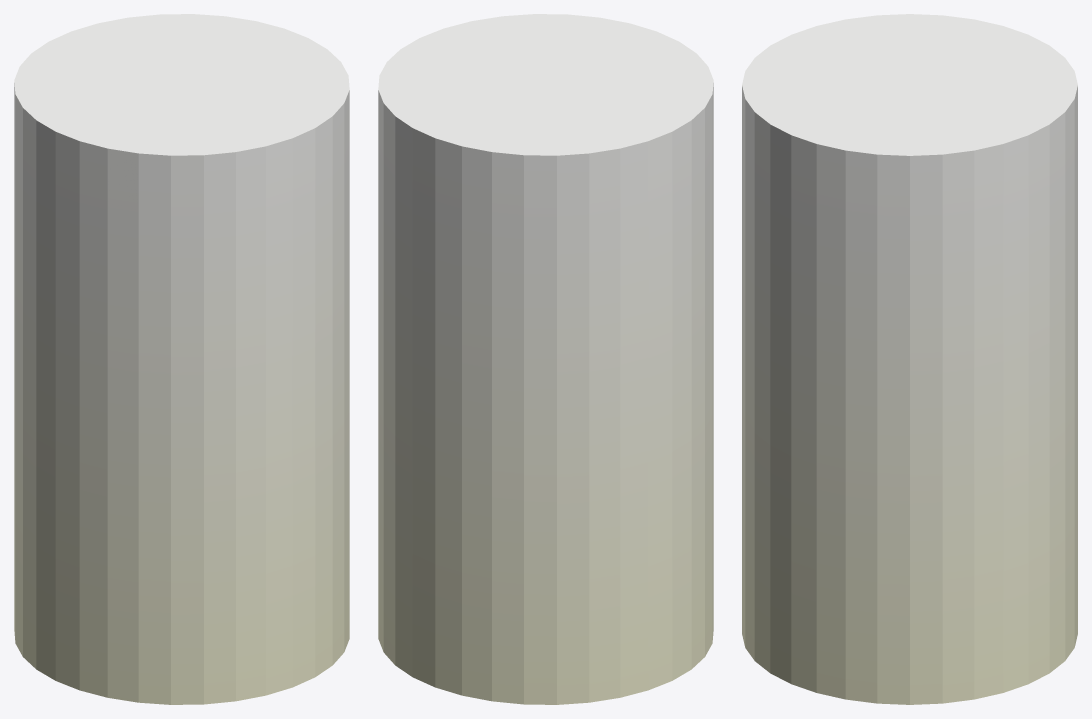
3 views of the same model, side by side, from view 1: azimuth 30°, elevation 25°; view 2: azimuth 150°, elevation 25°; view 3: azimuth 270°, elevation 25° (orthographic).
Parts seen in each view (by area): view 1: Cylinder; view 2: Cylinder; view 3: Cylinder.
Part boxes in pixels (<box>): Cylinder: <box>14,14,349,704</box>; Cylinder: <box>378,14,713,704</box>; Cylinder: <box>742,14,1077,704</box>.
Bounding box in the file's own units: 111 × 199 × 111.
